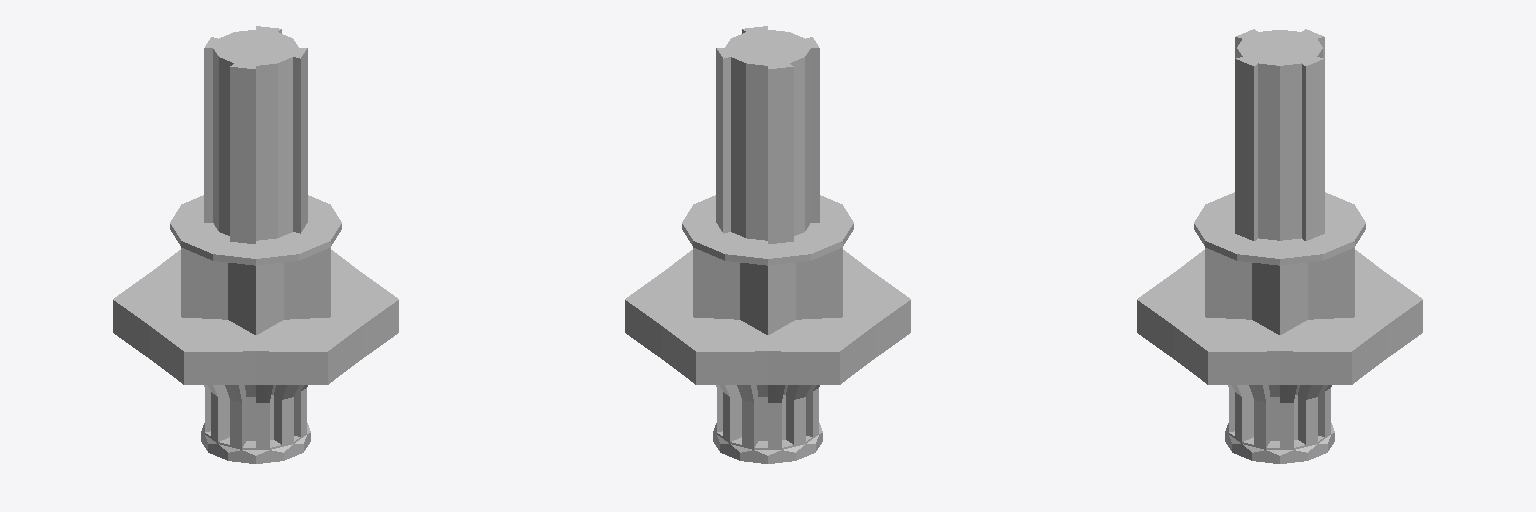
Rendered from 4Bit.obj.
3 renders of one model, left to right at view 1: azimuth 30°, elevation 25°; view 2: azimuth 150°, elevation 25°; view 3: azimuth 270°, elevation 25°, orthographic.
Visible parts, largest first — view 1: 4Bit; view 2: 4Bit; view 3: 4Bit.
Boxes of the visible parts, <box> form: 4Bit: <box>113,26,398,463</box>; 4Bit: <box>625,26,910,463</box>; 4Bit: <box>1137,29,1422,463</box>.
Bounding box in the file's own units: 1.35 × 2.5 × 1.56.